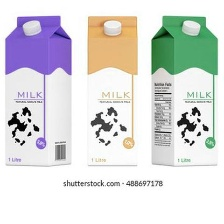carton: (147, 11, 222, 171), (1, 11, 75, 169), (84, 13, 144, 169)
